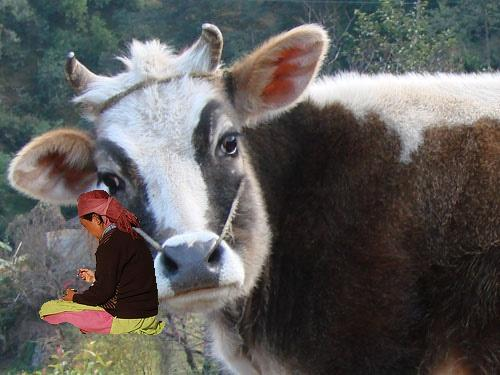tampered: (40, 191, 165, 335)
